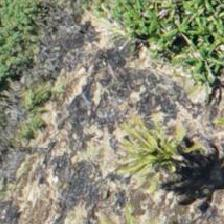coconut_tree: (112, 102, 202, 192)
